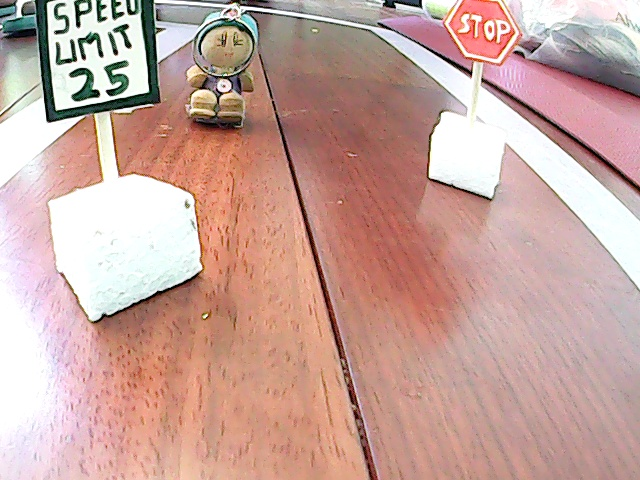pedestrain: (191, 5, 255, 136)
speed_25: (30, 1, 191, 316)
stop: (424, 1, 526, 205)
